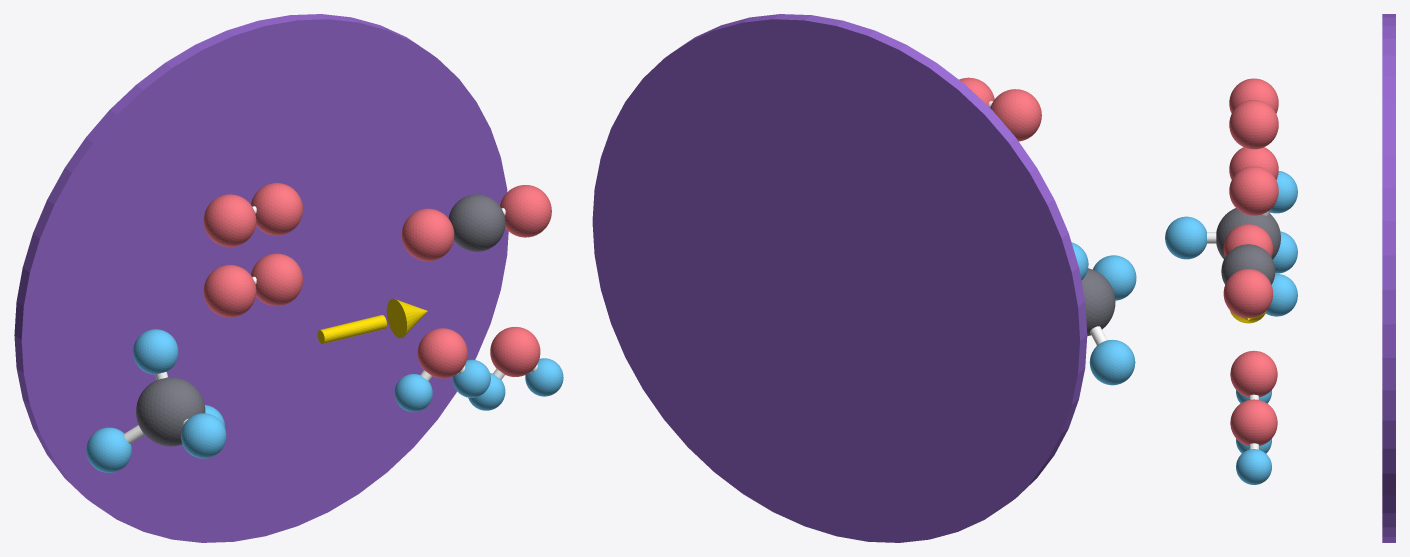
Rendered from reagentes_e_produtos_CORRIGIDO_Q_LAB.glb.
3 views of the same model, side by side, from view 1: azimuth 30°, elevation 25°; view 2: azimuth 150°, elevation 25°; view 3: azimuth 270°, elevation 25° (orthographic). The views are drawn at different scales.
Parts seen in each view (by area): view 1: base, reagente_CH4_C, produto_CO2_C, O2_0_1, O2_1_1, produto_CO2_O1, O2_0_2, O2_1_2, produto_CO2_O2, H2O_0_O, H2O_1_O, CH4_H_3 (+8 smaller); view 2: base, O2_1_1, CH4_H_0, reagente_CH4_C, CH4_H_3; view 3: base, O2_0_2, O2_1_2, produto_CO2_O2, H2O_0_O, H2O_1_O, CH4_H_3, produto_CO2_C, reagente_CH4_C, O2_1_1, H2O_1_H2, O2_0_1 (+4 smaller).
Boxes of the visible parts, left/top/right/bottom form: base: left=14, top=14, right=508, bottom=542; reagente_CH4_C: left=136, top=377, right=205, bottom=446; produto_CO2_C: left=448, top=194, right=505, bottom=251; O2_0_1: left=203, top=265, right=256, bottom=317; O2_1_1: left=203, top=194, right=256, bottom=246; produto_CO2_O1: left=401, top=208, right=454, bottom=261; O2_0_2: left=251, top=253, right=302, bottom=306; O2_1_2: left=251, top=183, right=302, bottom=235; produto_CO2_O2: left=500, top=185, right=551, bottom=237; H2O_0_O: left=417, top=328, right=467, bottom=378; H2O_1_O: left=490, top=327, right=540, bottom=376; CH4_H_3: left=181, top=413, right=226, bottom=458; base: left=592, top=14, right=1087, bottom=542; O2_1_1: left=990, top=89, right=1041, bottom=141; CH4_H_0: left=1089, top=339, right=1135, bottom=385; reagente_CH4_C: left=1081, top=268, right=1115, bottom=335; CH4_H_3: left=1093, top=255, right=1136, bottom=300; base: left=1382, top=14, right=1395, bottom=542; O2_0_2: left=1229, top=166, right=1278, bottom=215; O2_1_2: left=1229, top=100, right=1278, bottom=149; produto_CO2_O2: left=1223, top=269, right=1272, bottom=318; H2O_0_O: left=1230, top=350, right=1277, bottom=397; H2O_1_O: left=1230, top=399, right=1277, bottom=445; CH4_H_3: left=1165, top=216, right=1206, bottom=259; produto_CO2_C: left=1221, top=244, right=1275, bottom=284; reagente_CH4_C: left=1216, top=208, right=1280, bottom=259; O2_1_1: left=1229, top=78, right=1278, bottom=113; H2O_1_H2: left=1236, top=449, right=1271, bottom=484; O2_0_1: left=1229, top=147, right=1278, bottom=179.
Size of the model in its own units: 0.47 by 0.47 by 0.205.
